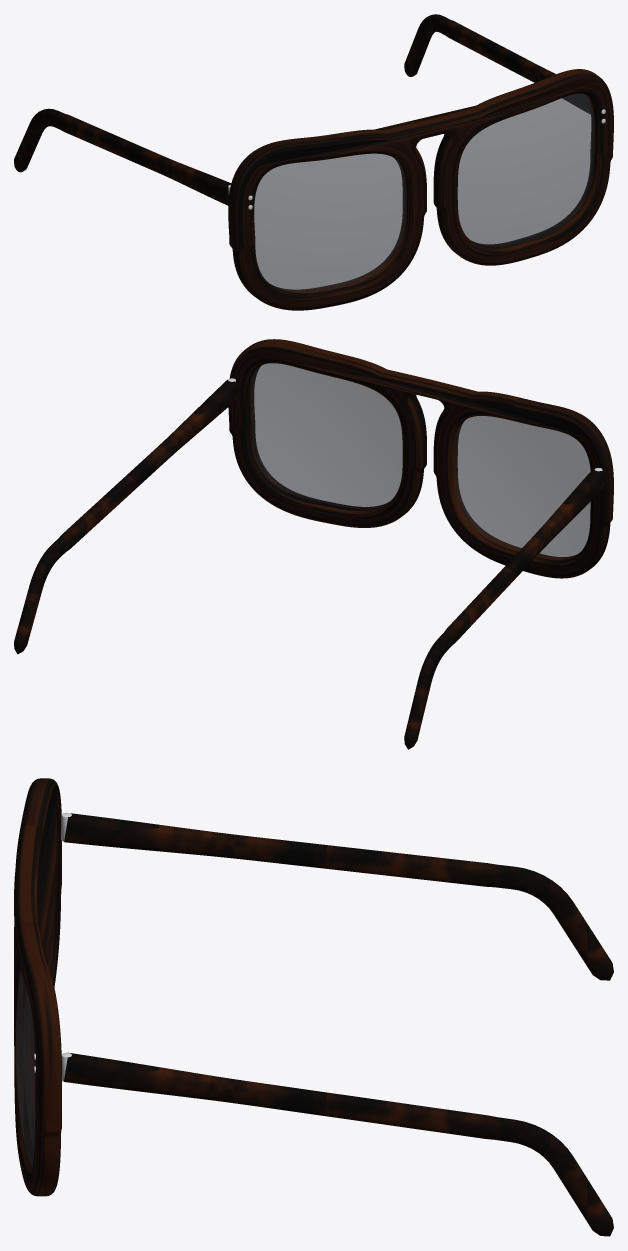
File: luna-s.glb
3 renders of one model, top to bottom at view 1: azimuth 30°, elevation 25°; view 2: azimuth 150°, elevation 25°; view 3: azimuth 270°, elevation 25°, orthographic. The views are drawn at different scales.
Visible parts, largest first — view 1: Front, Lens_R, Lens_L, Temple_R, Temple_L; view 2: Front, Lens_L, Lens_R, Temple_L, Temple_R; view 3: Front, Temple_L, Temple_R, Lens_L.
Part boxes in pixels (x1=…): Front: x1=228, y1=69, x2=613, y2=310; Lens_R: x1=254, y1=153, x2=406, y2=292; Lens_L: x1=457, y1=93, x2=594, y2=247; Temple_R: x1=14, y1=108, x2=231, y2=205; Temple_L: x1=404, y1=14, x2=590, y2=114; Front: x1=228, y1=339, x2=613, y2=578; Lens_L: x1=250, y1=363, x2=402, y2=508; Lens_R: x1=454, y1=416, x2=590, y2=558; Temple_L: x1=14, y1=379, x2=239, y2=654; Temple_R: x1=404, y1=469, x2=605, y2=749; Front: x1=14, y1=778, x2=71, y2=1196; Temple_L: x1=64, y1=1052, x2=613, y2=1236; Temple_R: x1=64, y1=813, x2=613, y2=980; Lens_L: x1=15, y1=970, x2=35, y2=1167.
Bounding box in the file's own units: 0.1429 × 0.0584 × 0.1382.
Materials: 4 (2 with a texture image).
